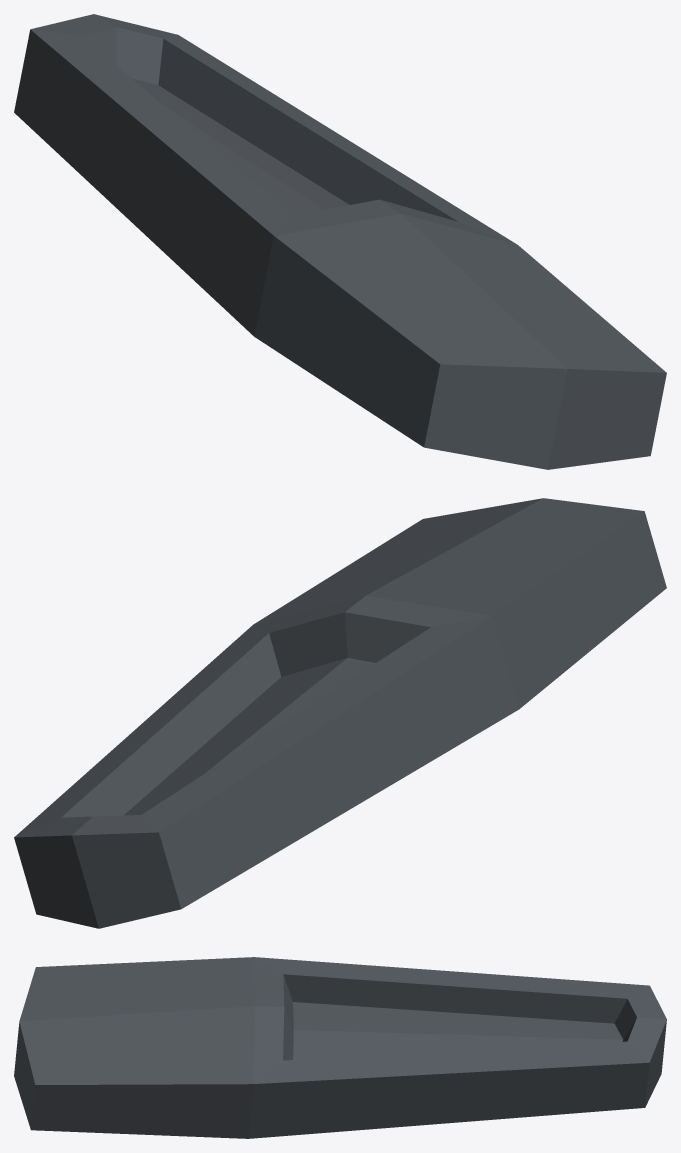
File: Mothership_02_Detail_6_Red.fbx
3 renders of one model, top to bottom at view 1: azimuth 30°, elevation 25°; view 2: azimuth 150°, elevation 25°; view 3: azimuth 270°, elevation 25°, orthographic. The views are drawn at different scales.
Parts seen in each view (by area): view 1: Mothership_02_Detail_6_Red; view 2: Mothership_02_Detail_6_Red; view 3: Mothership_02_Detail_6_Red.
Boxes of the visible parts, x1,y1,x2,y2 form: Mothership_02_Detail_6_Red: [14, 14, 666, 469]; Mothership_02_Detail_6_Red: [14, 498, 666, 928]; Mothership_02_Detail_6_Red: [14, 957, 666, 1138].
Size of the model in its own units: 130 by 74.81 by 406.
2 materials, 2 textured.
